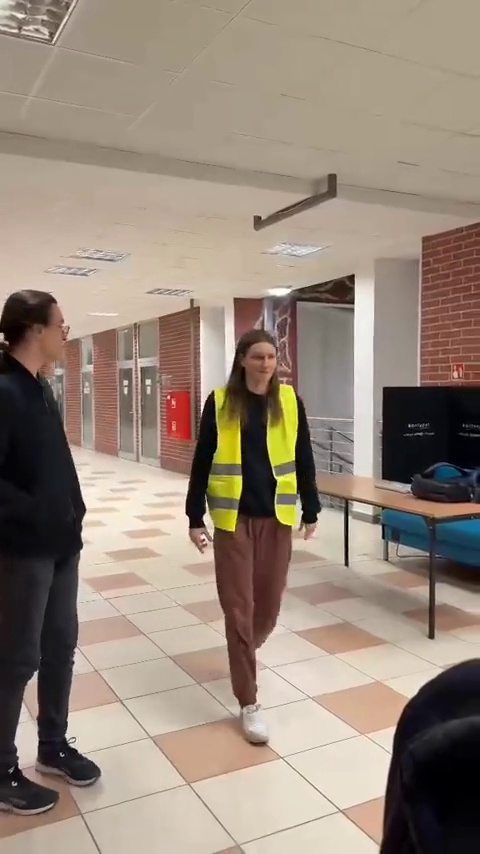no vest: (0, 289, 103, 821)
vest: (186, 323, 328, 752)
